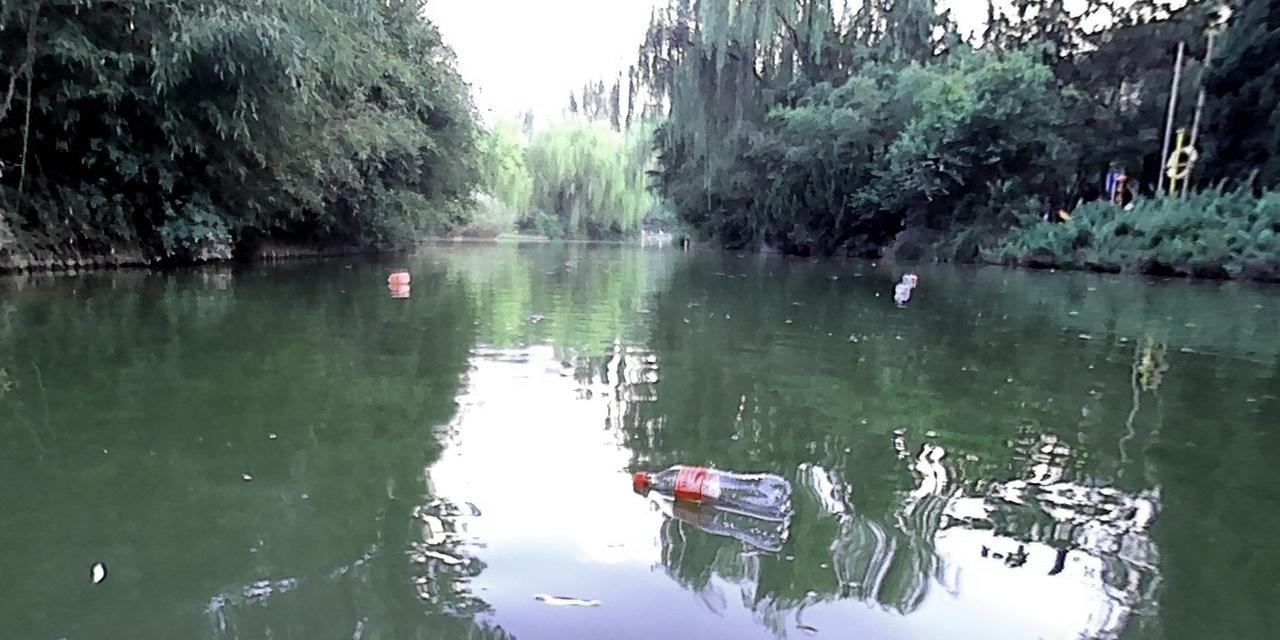Plastic: (632, 462, 793, 522), (893, 273, 919, 297), (386, 271, 411, 285)
